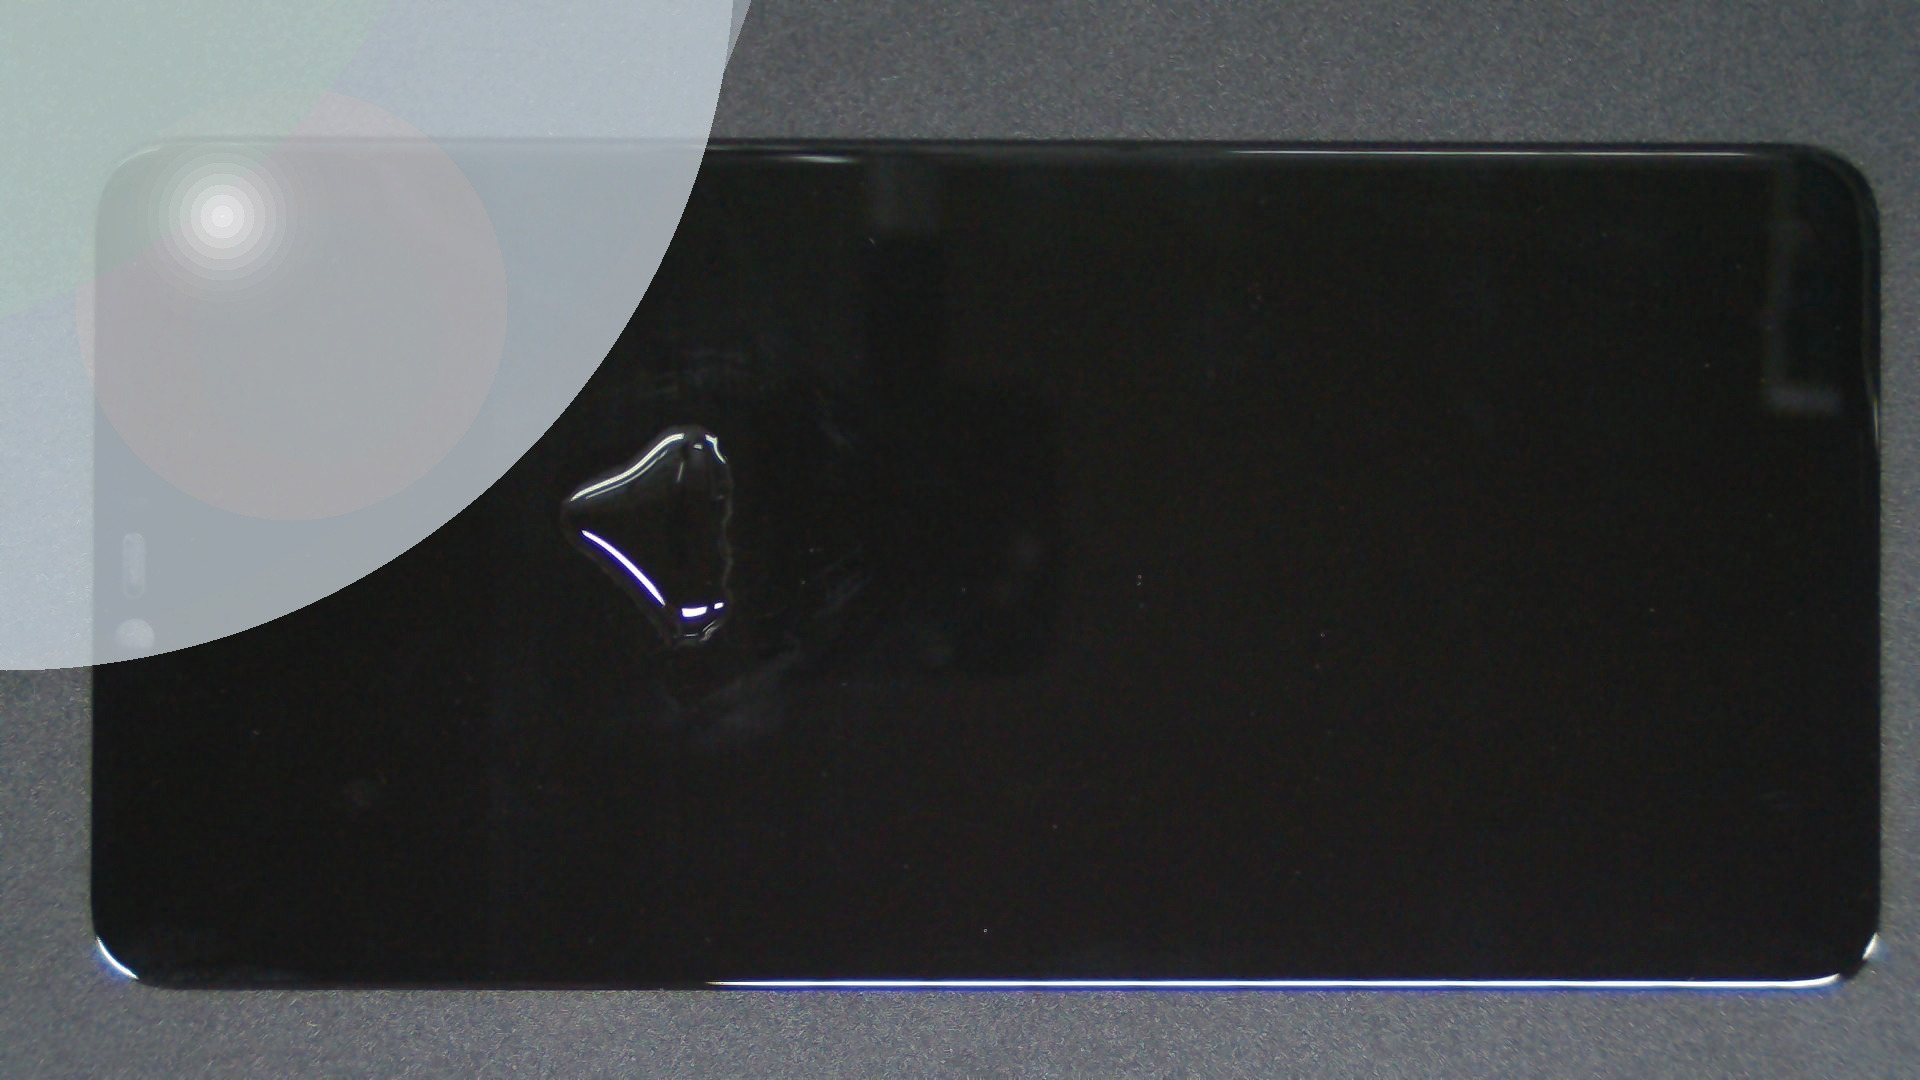oil: (347, 211, 1039, 636)
